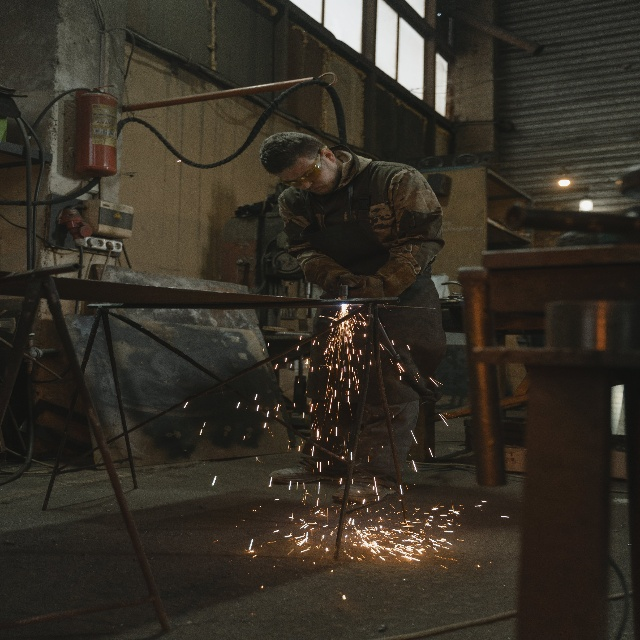Gafas: (278, 144, 327, 187)
Guantes: (319, 257, 385, 302), (297, 248, 353, 291)
